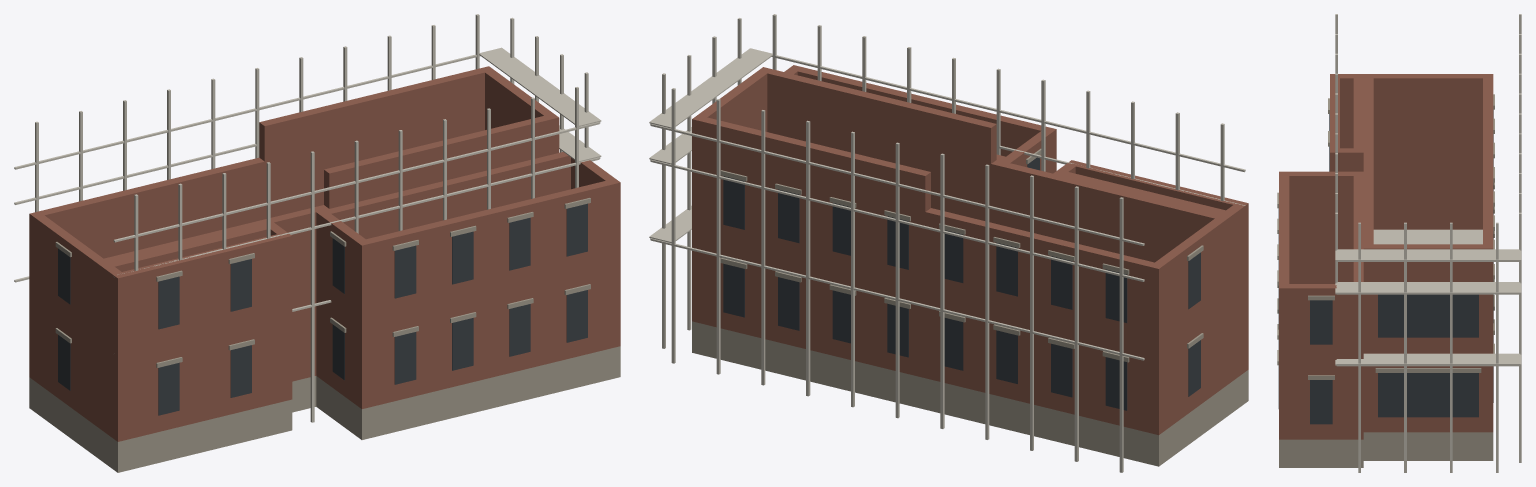
The model's file is robbins_house_2126_prairie__draft_1904.glb.
3 views of the same model, side by side, from view 1: azimuth 30°, elevation 25°; view 2: azimuth 150°, elevation 25°; view 3: azimuth 270°, elevation 25° (orthographic). The views are drawn at different scales.
Visible parts, largest first — view 1: robbins_house_2126_prairie__draft_1904; view 2: robbins_house_2126_prairie__draft_1904; view 3: robbins_house_2126_prairie__draft_1904.
Part boxes in pixels (x1=…): robbins_house_2126_prairie__draft_1904: x1=14, y1=14, x2=620, y2=472; robbins_house_2126_prairie__draft_1904: x1=649, y1=14, x2=1248, y2=472; robbins_house_2126_prairie__draft_1904: x1=1277, y1=14, x2=1521, y2=472.
Bounding box in the file's own units: 23.13 × 12.2 × 10.84.
